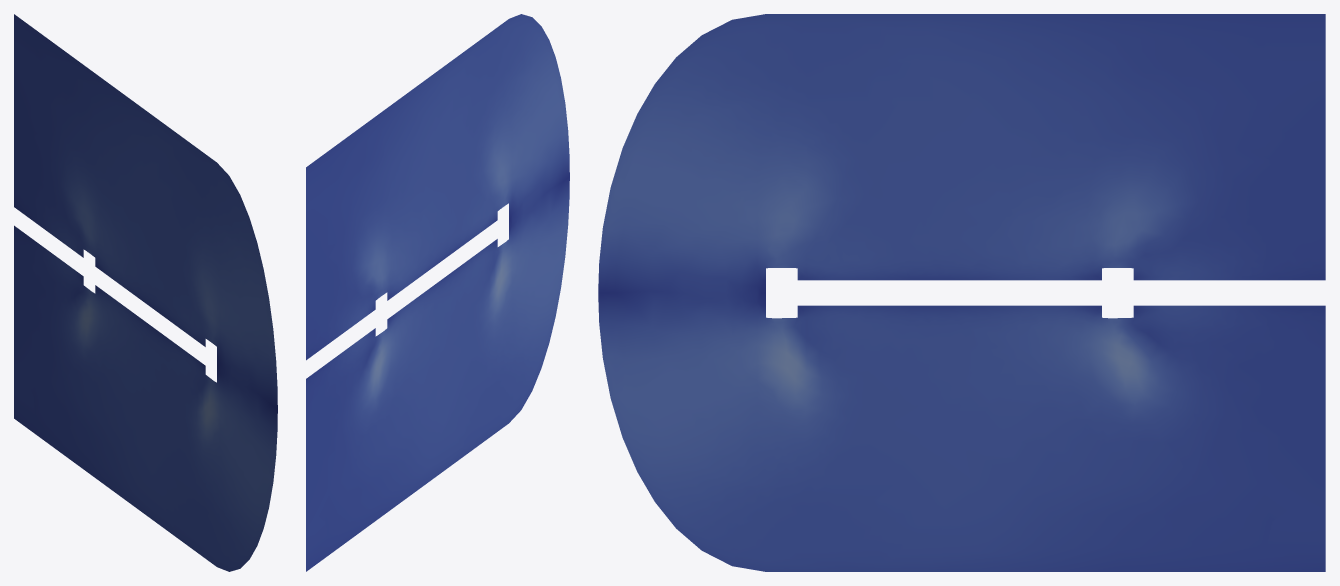
The picture shows the model from 3 angles, left to right: view 1: azimuth 30°, elevation 25°; view 2: azimuth 150°, elevation 25°; view 3: azimuth 270°, elevation 25°; orthographic projection. The views are drawn at different scales.
Visible parts, largest first — view 1: Shape_IndexedFaceSet.001; view 2: Shape_IndexedFaceSet.001; view 3: Shape_IndexedFaceSet.001.
Boxes of the visible parts, <box> form: Shape_IndexedFaceSet.001: <box>14,14,277,571</box>; Shape_IndexedFaceSet.001: <box>306,14,569,571</box>; Shape_IndexedFaceSet.001: <box>598,14,1325,571</box>.
Size of the model in its own units: 1.96e-05 by 110 by 130.
